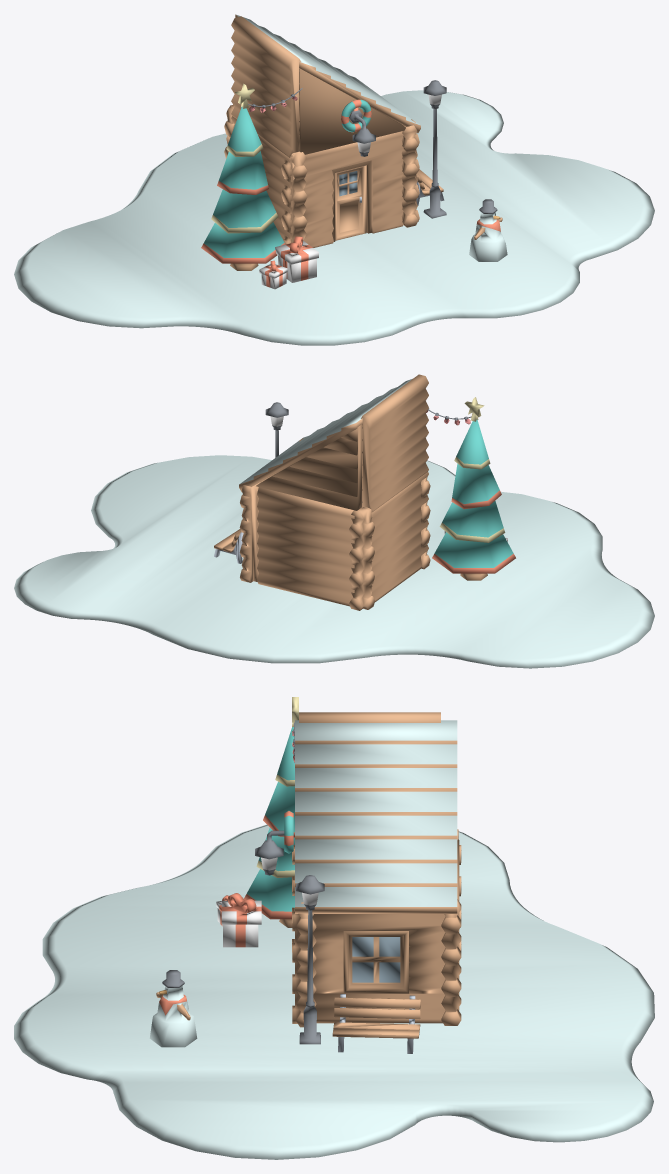
3 renders of one model, top to bottom at view 1: azimuth 30°, elevation 25°; view 2: azimuth 150°, elevation 25°; view 3: azimuth 270°, elevation 25°, orthographic. The views are drawn at different scales.
Parts seen in each view (by area): view 1: snowPatch, treeDecorated, cabinDoor, cabinWall.003, cabinSide.001, cabinRoof, door, cabinCorner.001, cabinWall, snowmanFancy, cabinCorner, lightpost (+4 smaller); view 2: snowPatch, cabinWall.002, treeDecorated, cabinWall.003, cabinWall, cabinSide, cabinRoof, cabinCorner.002, cabinCorner.003, cabinCorner.001, bench, lightpost; view 3: snowPatch, cabinRoof, cabinWindow, frame, treeDecorated, bench, snowmanFancy, cabinCorner.003, cabinCorner, lightpost, cabinWall.003, lid.005 (+2 smaller).
Boxes of the visible parts, x1=… form: snowPatch: x1=14, y1=90, x2=654, y2=345; treeDecorated: x1=201, y1=106, x2=285, y2=270; cabinDoor: x1=303, y1=131, x2=403, y2=247; cabinWall.003: x1=231, y1=16, x2=300, y2=157; cabinSide.001: x1=299, y1=68, x2=405, y2=154; cabinRoof: x1=235, y1=14, x2=420, y2=133; door: x1=335, y1=165, x2=366, y2=240; cabinCorner.001: x1=281, y1=151, x2=307, y2=244; cabinWall: x1=231, y1=116, x2=294, y2=242; snowmanFancy: x1=469, y1=199, x2=507, y2=261; cabinCorner: x1=401, y1=119, x2=419, y2=227; lightpost: x1=423, y1=80, x2=446, y2=218; snowPatch: x1=14, y1=455, x2=654, y2=668; cabinWall.002: x1=257, y1=487, x2=354, y2=606; treeDecorated: x1=432, y1=419, x2=515, y2=580; cabinWall.003: x1=361, y1=374, x2=428, y2=512; cabinWall: x1=362, y1=472, x2=428, y2=601; cabinSide: x1=256, y1=424, x2=361, y2=510; cabinRoof: x1=239, y1=378, x2=412, y2=491; cabinCorner.002: x1=349, y1=507, x2=374, y2=610; cabinCorner.003: x1=239, y1=481, x2=261, y2=582; cabinCorner.001: x1=421, y1=477, x2=430, y2=569; bench: x1=214, y1=529, x2=243, y2=563; lightpost: x1=265, y1=402, x2=288, y2=457; snowPatch: x1=14, y1=824, x2=654, y2=1159; cabinRoof: x1=295, y1=720, x2=457, y2=913; cabinWindow: x1=312, y1=914, x2=445, y2=1023; frame: x1=343, y1=931, x2=408, y2=993; treeDecorated: x1=244, y1=727, x2=294, y2=927; bench: x1=332, y1=994, x2=420, y2=1053; snowmanFancy: x1=149, y1=970, x2=197, y2=1047; cabinCorner.003: x1=441, y1=899, x2=461, y2=1025; cabinCorner: x1=292, y1=902, x2=316, y2=1027; lightpost: x1=296, y1=875, x2=324, y2=1044; cabinWall.003: x1=299, y1=712, x2=440, y2=722; lid.005: x1=221, y1=893, x2=261, y2=924.
Size of the model in its own units: 5.77 by 1.9 by 4.51.
